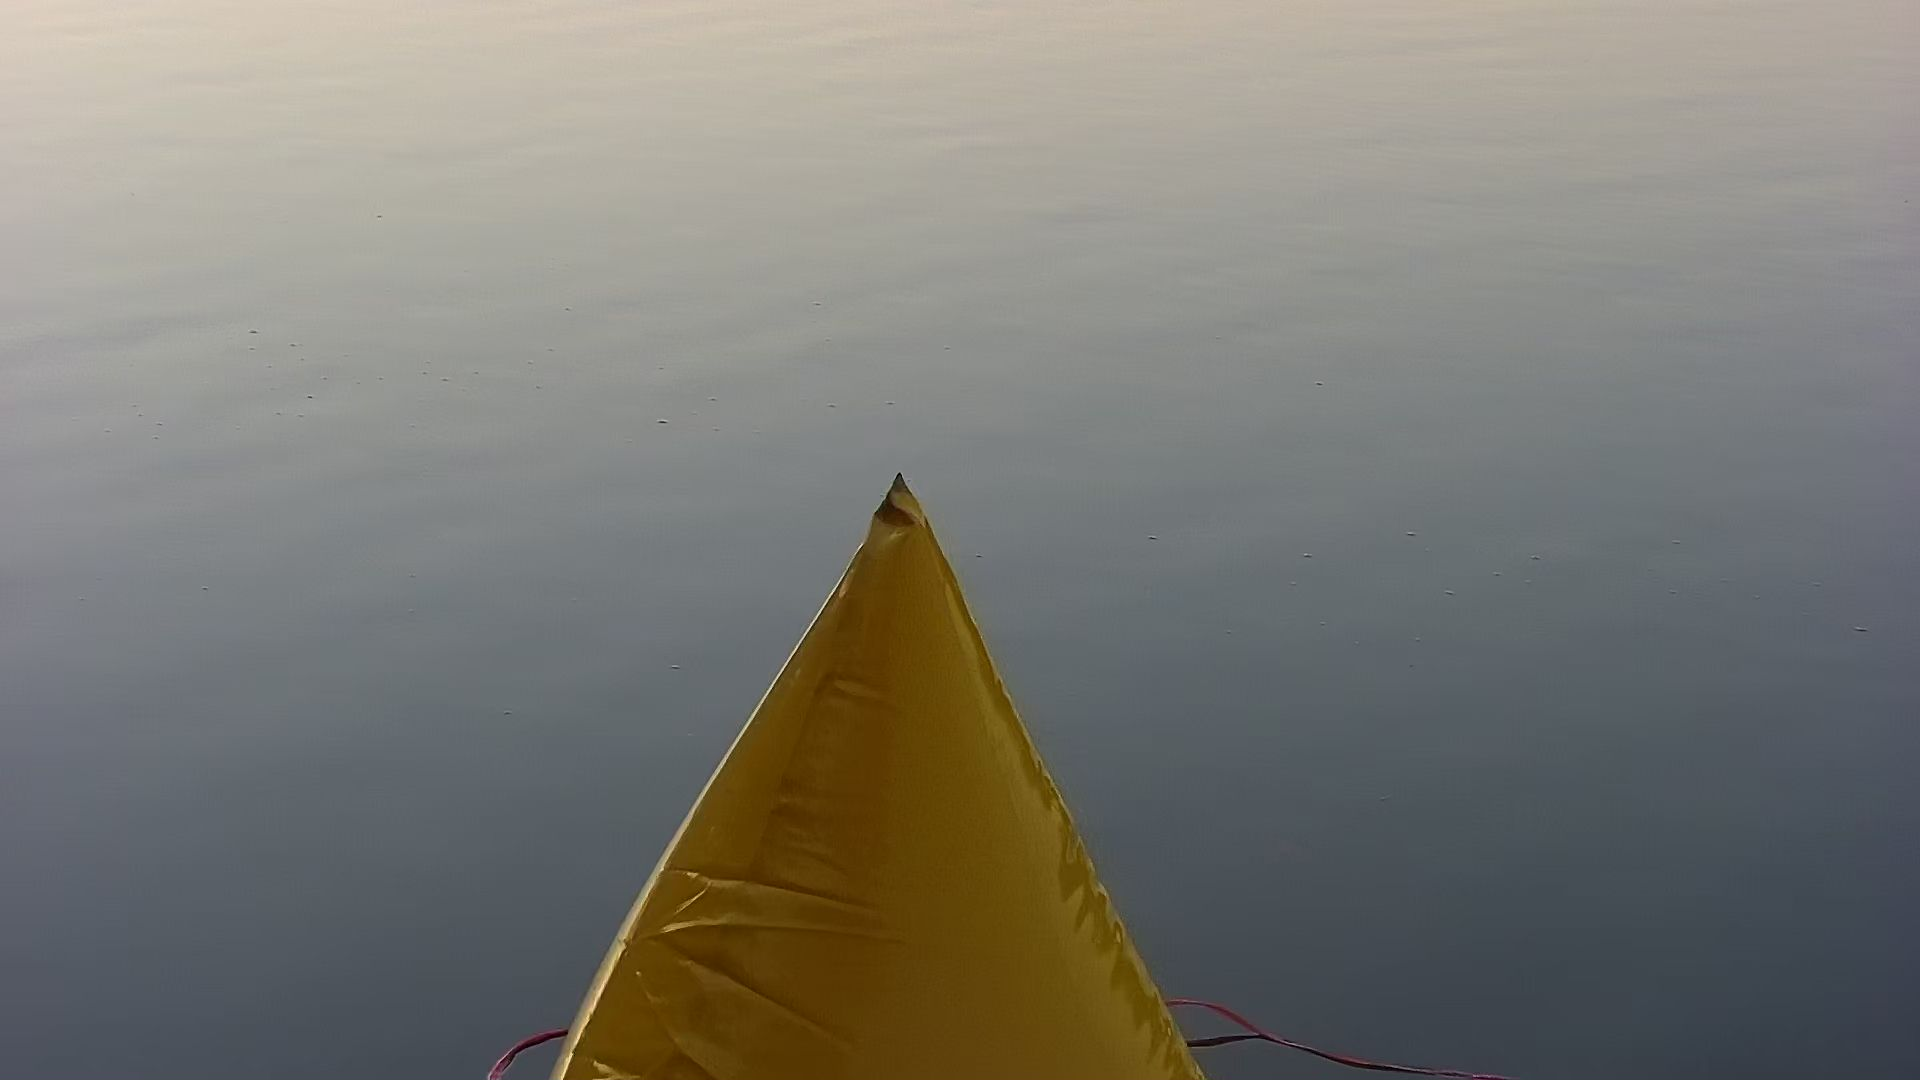rubbish: (546, 469, 1192, 1080)
